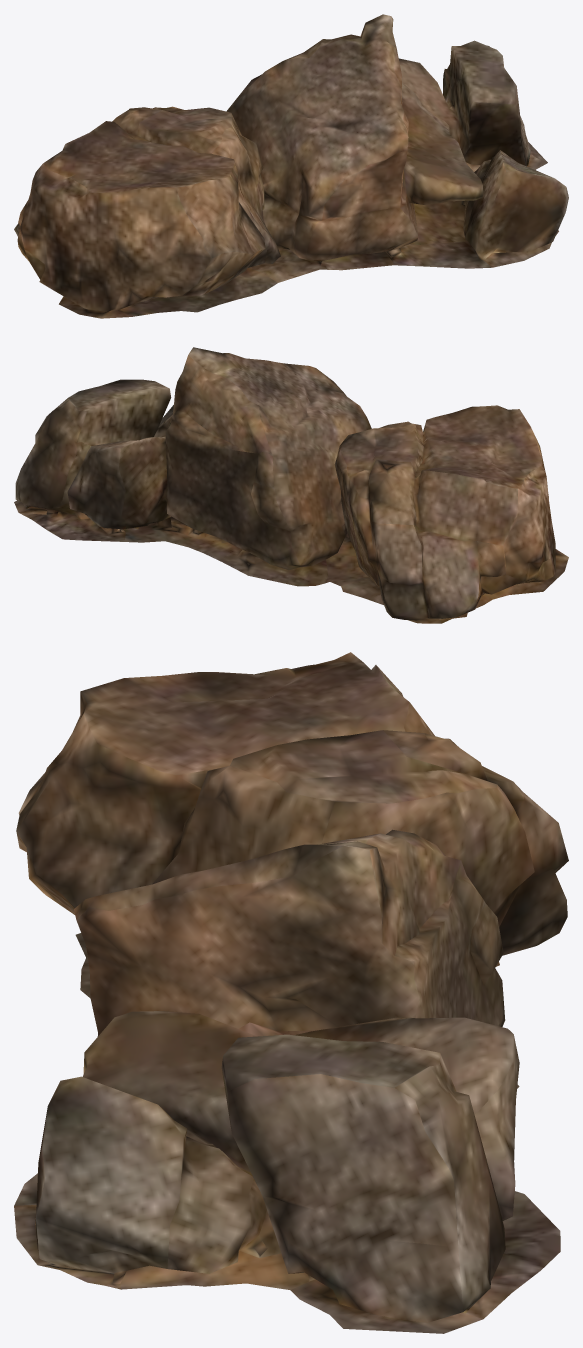
File: namaqualand_boulder_02_lod1.glb
3 renders of one model, top to bottom at view 1: azimuth 30°, elevation 25°; view 2: azimuth 150°, elevation 25°; view 3: azimuth 270°, elevation 25°, orthographic. The views are drawn at different scales.
Visible parts, largest first — view 1: boulder_02; view 2: boulder_02; view 3: boulder_02.
Part boxes in pixels (x1,y1,x2,y2): boulder_02: (14, 14, 568, 318); boulder_02: (14, 347, 568, 623); boulder_02: (14, 652, 568, 1333).
Size of the model in its own units: 2.51 by 0.8789 by 1.23.
1 material, 1 textured.
